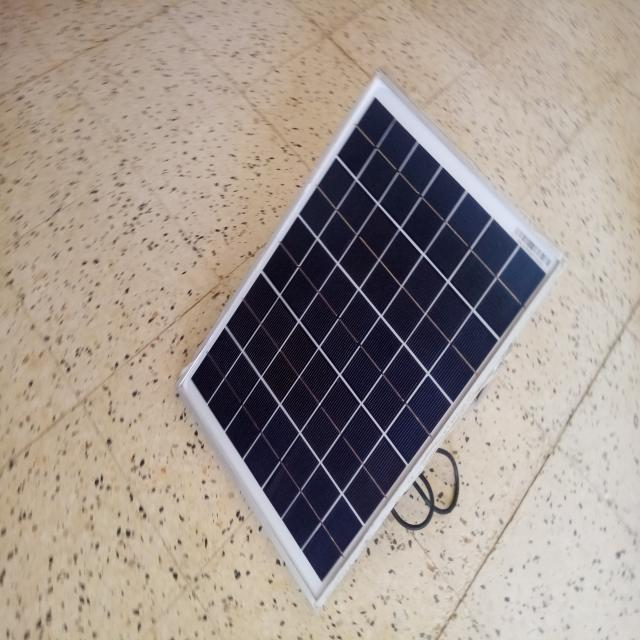no faulty: (182, 72, 557, 601)
